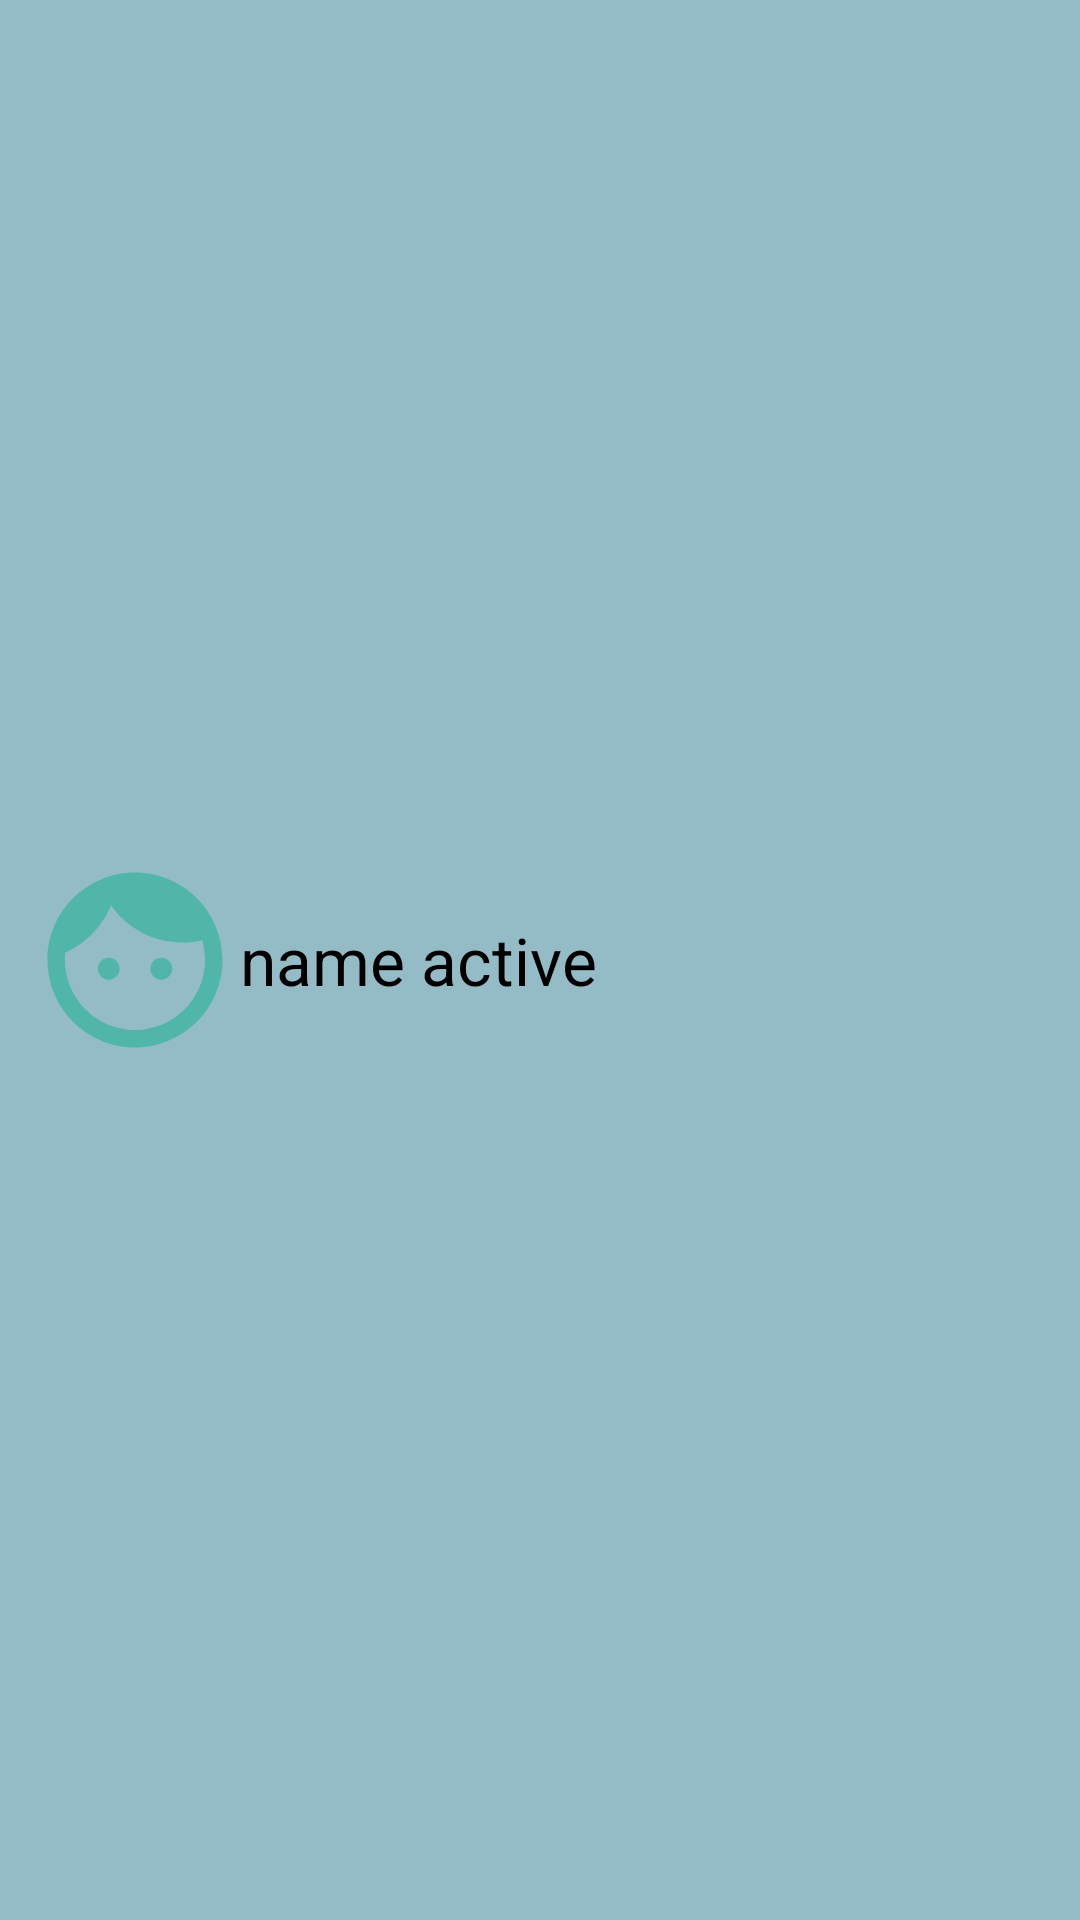

Icons on this 1080x1920 Android screen, each with the point to tap as (x,y):
face global: (135,960)
